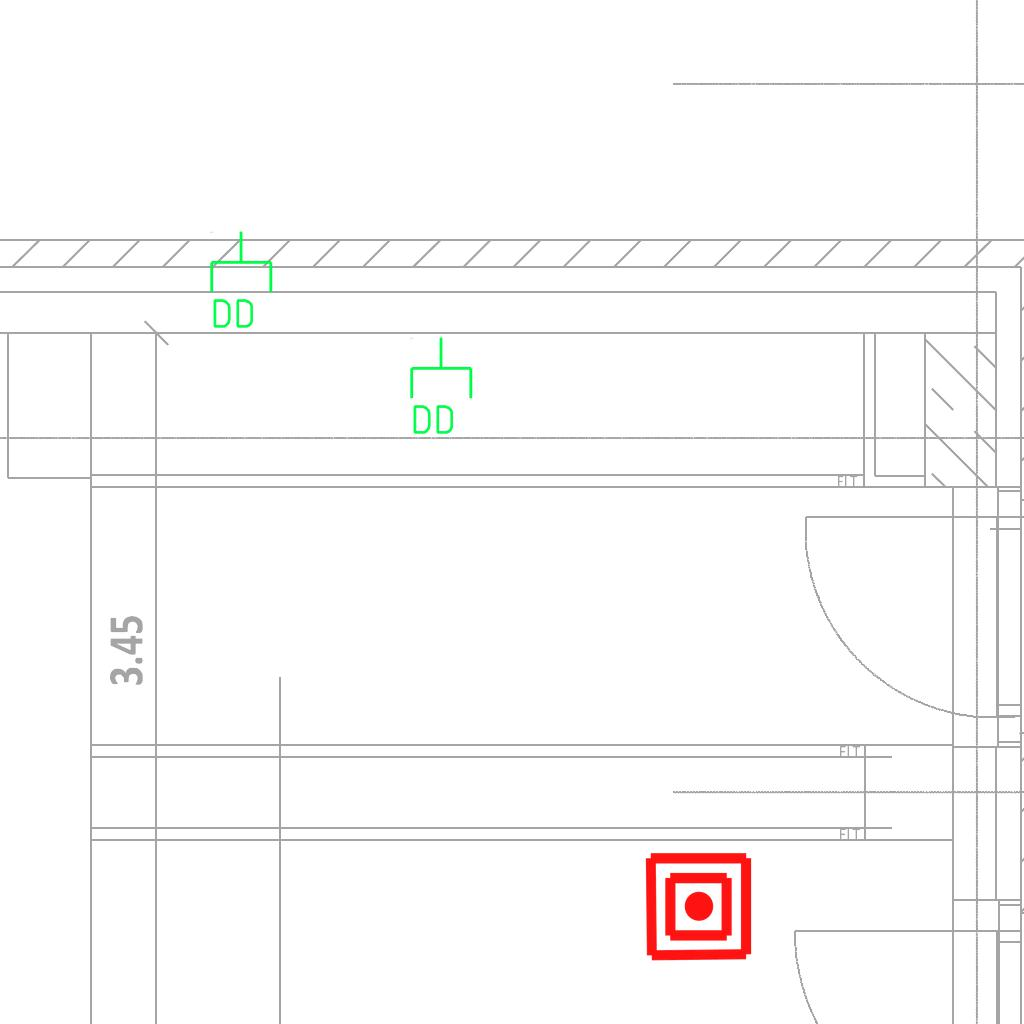Datenanschluss_zweifach: (406, 335, 475, 438), (206, 229, 275, 332)
NAM-Nichtautomatischer_Melder: (642, 850, 755, 963)
